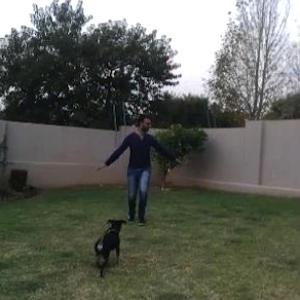land: (78, 110, 186, 229)
